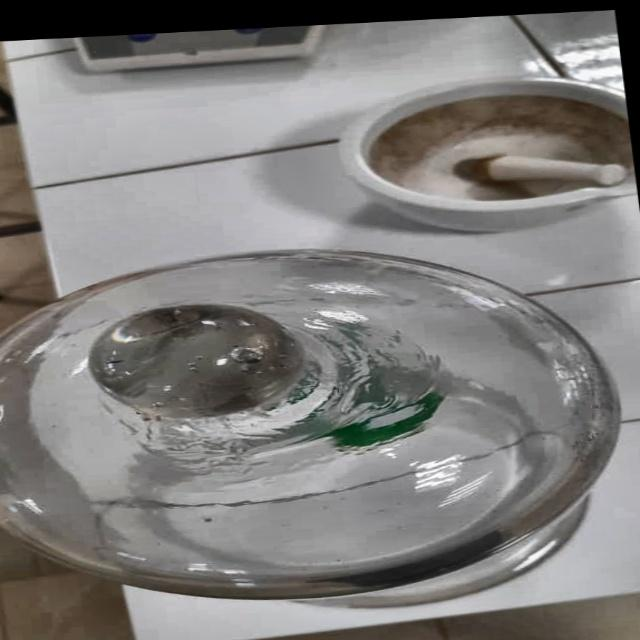Gas Bottle: (0, 239, 640, 637)
